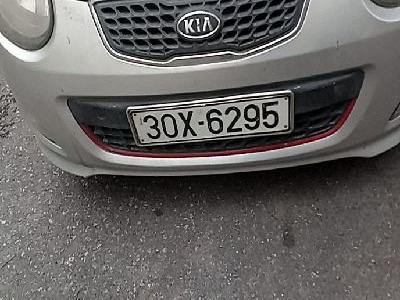car: (127, 91, 297, 148)
